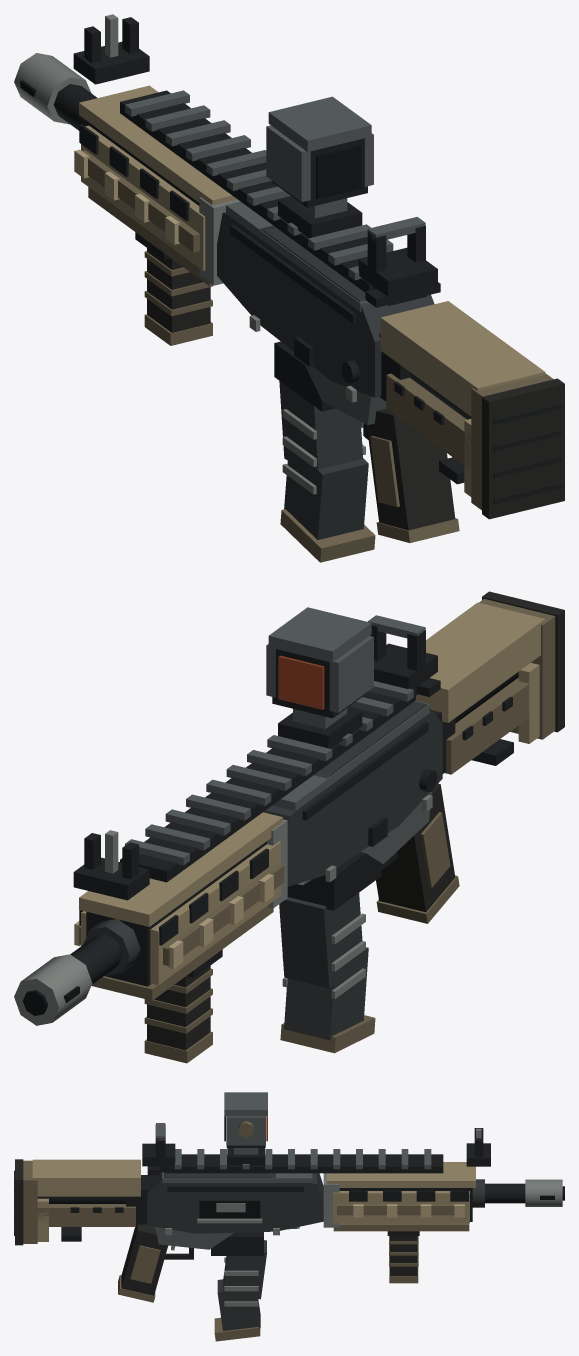
The picture shows the model from 3 angles, top to bottom: view 1: azimuth 30°, elevation 25°; view 2: azimuth 150°, elevation 25°; view 3: azimuth 270°, elevation 25°; orthographic projection. The views are drawn at different scales.
Visible parts, largest first — view 1: Merged_material (×9), Forged upper receiver, Lower receiver; view 2: Merged_material (×9), Forged upper receiver, Optic lens front, Lower receiver; view 3: Merged_material (×9), Forged upper receiver, Lower receiver.
Boxes of the visible parts, bbox=[...] form: Merged_material (×9): bbox=[14, 14, 564, 562]; Forged upper receiver: bbox=[217, 212, 434, 397]; Lower receiver: bbox=[304, 363, 386, 425]; Merged_material (×9): bbox=[14, 591, 564, 1063]; Forged upper receiver: bbox=[263, 701, 442, 886]; Optic lens front: bbox=[278, 655, 324, 709]; Lower receiver: bbox=[297, 792, 431, 885]; Merged_material (×9): bbox=[14, 1092, 564, 1341]; Forged upper receiver: bbox=[147, 1172, 323, 1233]; Lower receiver: bbox=[155, 1226, 299, 1249].
Size of the model in its own units: 0.11 by 0.4419 by 0.947.
